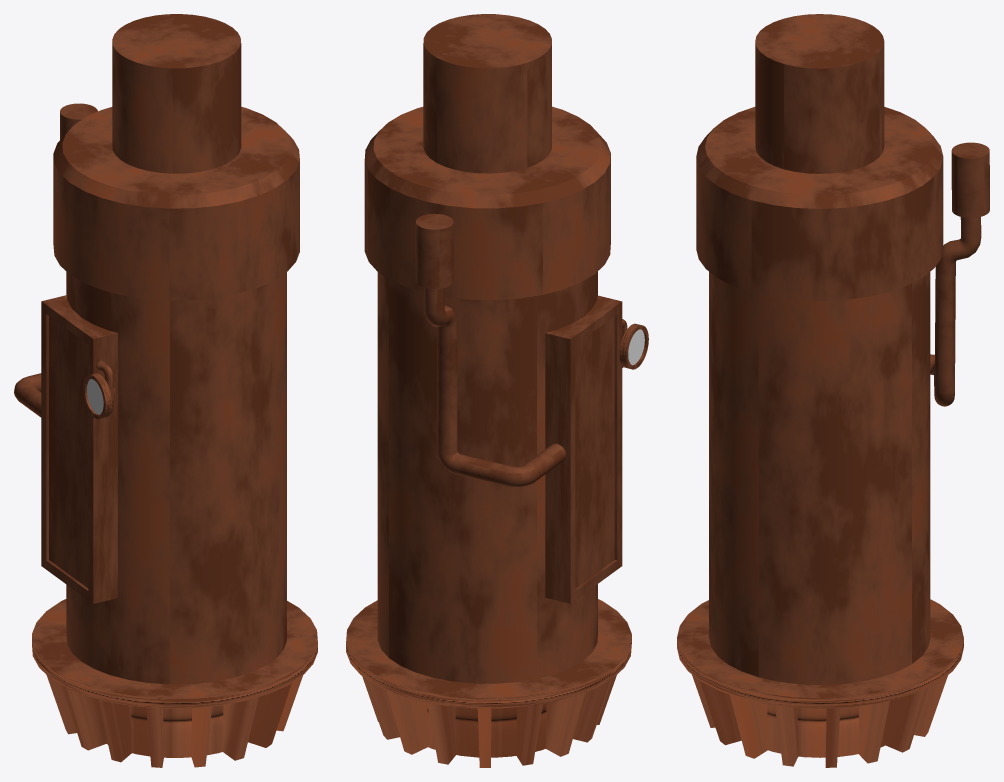
File: Final_Boiler.glb
3 renders of one model, left to right at view 1: azimuth 30°, elevation 25°; view 2: azimuth 150°, elevation 25°; view 3: azimuth 270°, elevation 25°, orthographic.
Visible parts, largest first — view 1: Cylinder, Cylinder.012, Cube, Cylinder.015, Cylinder.001; view 2: Cylinder, Cylinder.012, Cube, Cylinder.015, Cylinder.001; view 3: Cylinder, Cylinder.012, Cylinder.015.
Part boxes in pixels (x1,y1,x2,y2): Cylinder: (53,14,299,684); Cylinder.012: (32,599,317,767); Cube: (41,295,117,603); Cylinder.015: (14,103,97,417); Cylinder.001: (83,373,112,419); Cylinder: (364,14,610,683); Cylinder.012: (346,599,631,767); Cube: (545,295,622,603); Cylinder.015: (415,213,565,486); Cylinder.001: (619,323,648,369); Cylinder: (696,14,943,684); Cylinder.012: (677,599,963,767); Cylinder.015: (930,142,989,406).
Bounding box in the file's own units: 1.99 × 5.22 × 2.17.
Materials: 3 (3 with a texture image).
